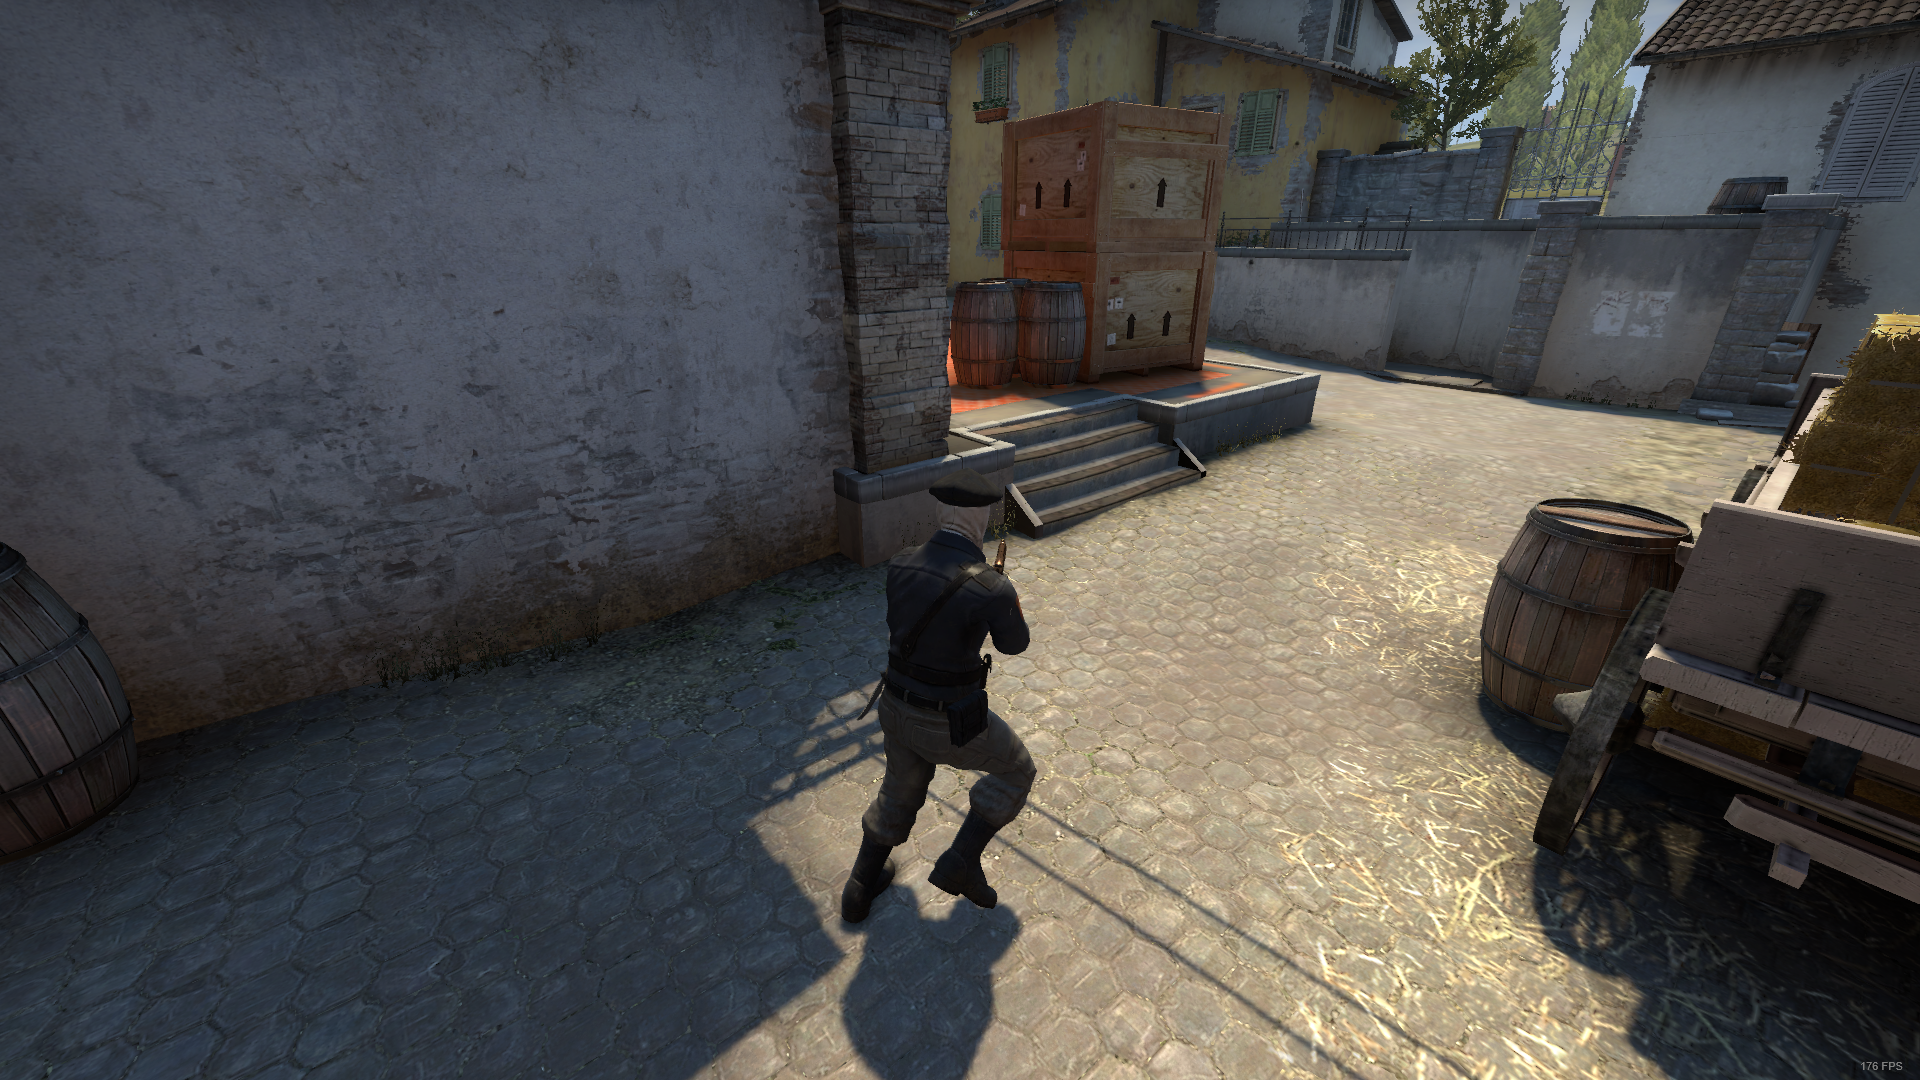t: (840, 458, 1039, 951)
